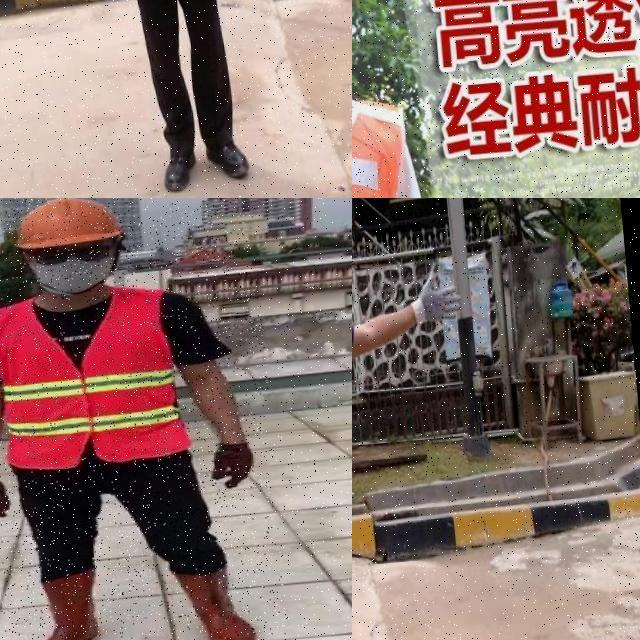boots: (164, 559, 258, 640), (20, 571, 103, 640), (200, 128, 255, 188), (160, 146, 202, 198)
helmet: (8, 198, 129, 255)
vest: (0, 284, 192, 473)
